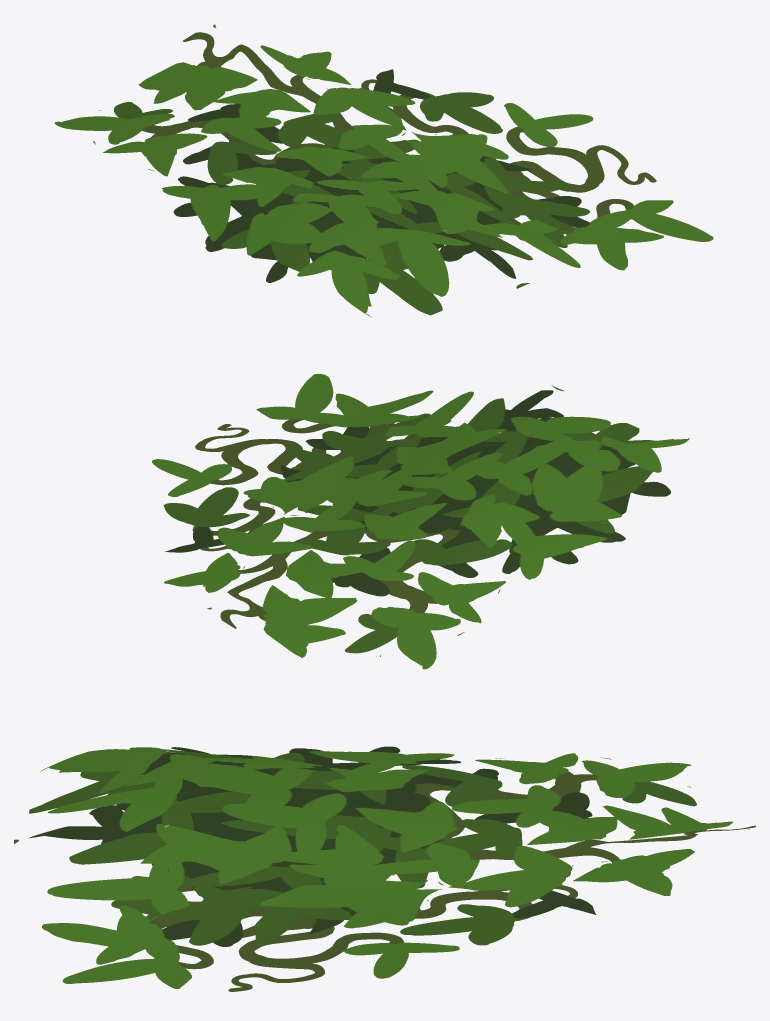
File: SM_Vine08.FBX
The picture shows the model from 3 angles, top to bottom: view 1: azimuth 30°, elevation 25°; view 2: azimuth 150°, elevation 25°; view 3: azimuth 270°, elevation 25°; orthographic projection. The views are drawn at different scales.
Visible parts, largest first — view 1: Plane008; view 2: Plane008; view 3: Plane008.
Part boxes in pixels (box(x1,y1,x2,y2)): Plane008: box(54, 24, 713, 317); Plane008: box(152, 373, 689, 669); Plane008: box(14, 746, 755, 991).
Size of the model in its own units: 68.52 by 7.1 by 84.79.
